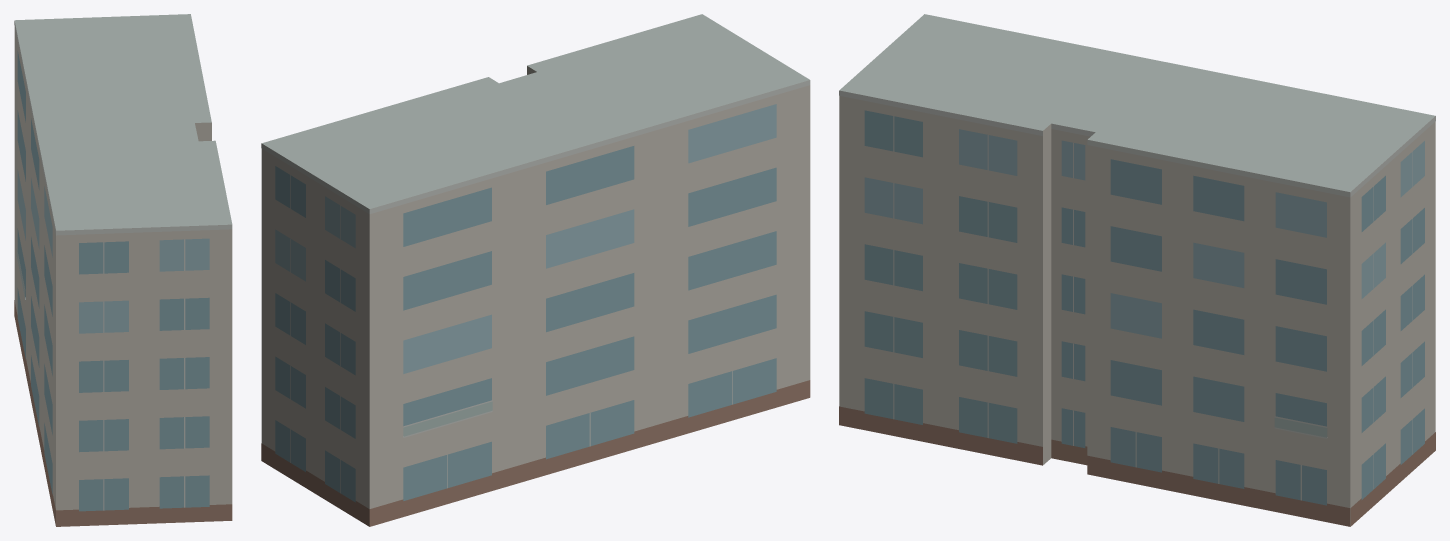
The model's file is survey-upis-32552705.glb.
3 renders of one model, left to right at view 1: azimuth 30°, elevation 25°; view 2: azimuth 150°, elevation 25°; view 3: azimuth 270°, elevation 25°, orthographic. The views are drawn at different scales.
Visible parts, largest first — view 1: survey-upis-32552705.tmp; view 2: survey-upis-32552705.tmp; view 3: survey-upis-32552705.tmp.
Boxes of the visible parts, <box> form: survey-upis-32552705.tmp: <box>14,14,232,526</box>; survey-upis-32552705.tmp: <box>261,14,810,526</box>; survey-upis-32552705.tmp: <box>839,14,1435,526</box>.
Bounding box in the file's own units: 17.43 × 15.25 × 24.65.
